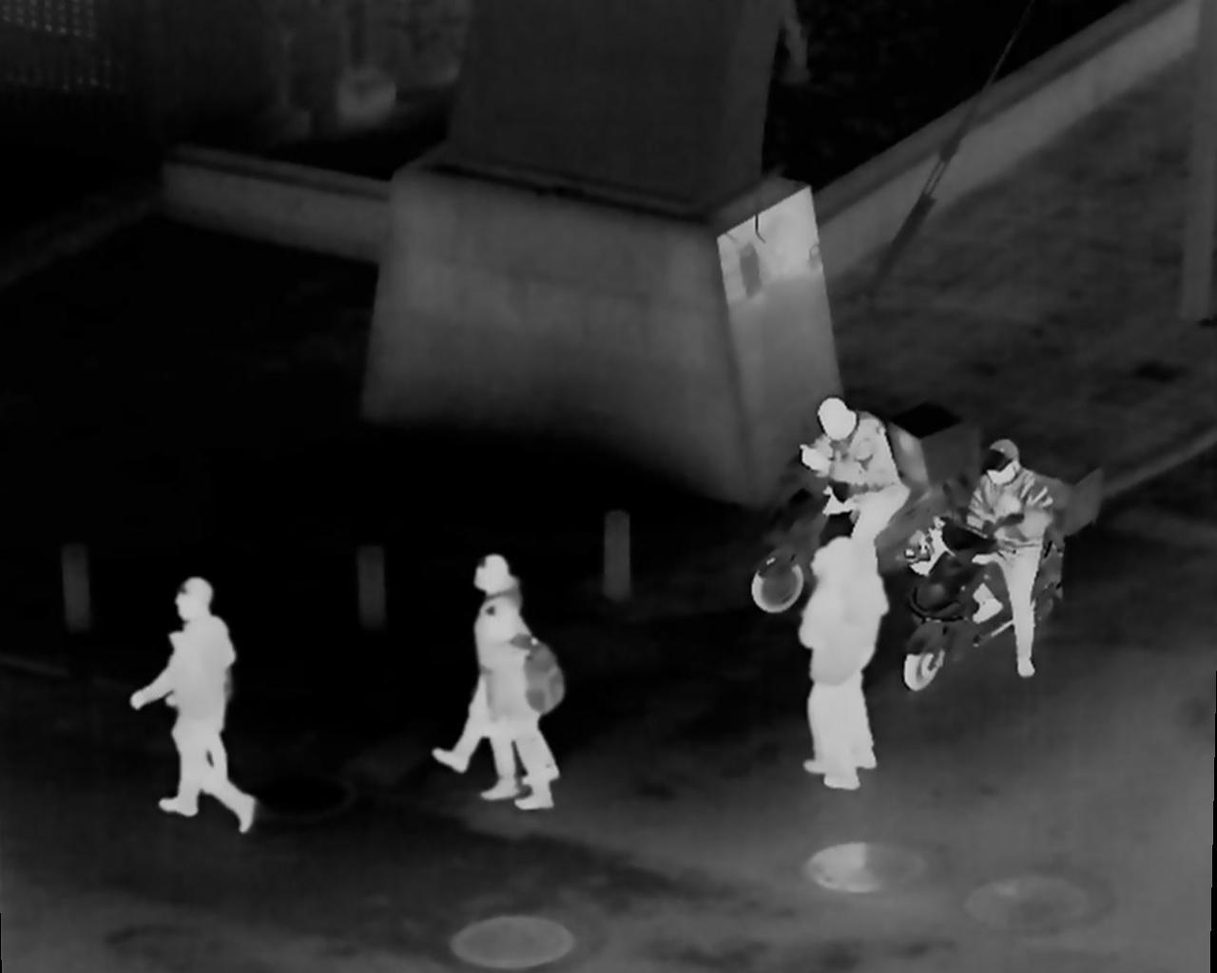person: (134, 580, 275, 819), (440, 558, 567, 783), (788, 529, 892, 776), (960, 438, 1060, 672), (468, 598, 554, 816), (811, 402, 915, 566)
